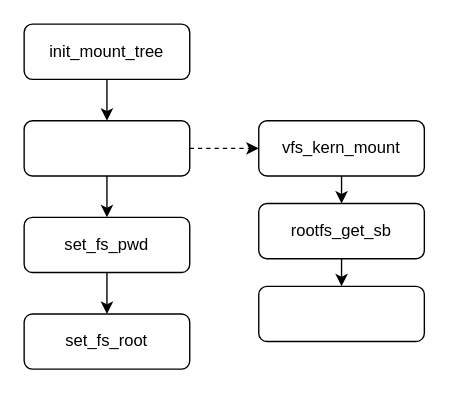
The diagram is 449 pixels wide and 393 high, and some of its shapes have lost their labels. The centre of each missing label's shape, as x and y in pixels:
d_alloc_root: (340,313)
do_kern_mount: (106,147)
